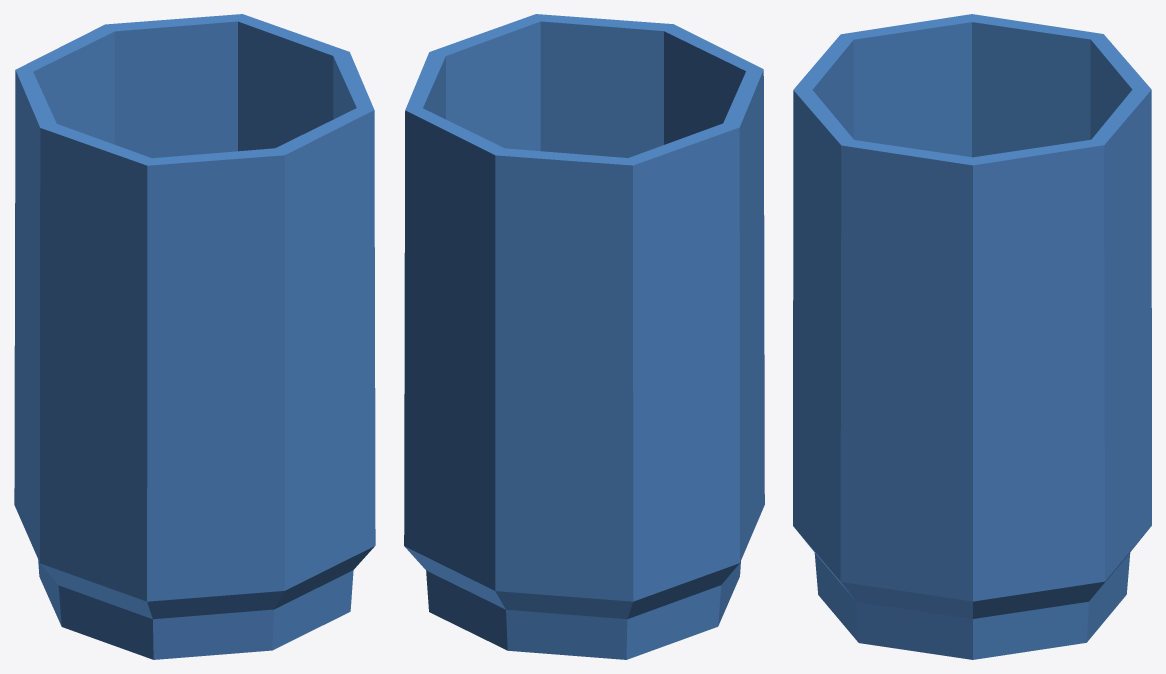
File: Glass_1.fbx
The picture shows the model from 3 angles, left to right: view 1: azimuth 30°, elevation 25°; view 2: azimuth 150°, elevation 25°; view 3: azimuth 270°, elevation 25°; orthographic projection.
Parts seen in each view (by area): view 1: Glass_1; view 2: Glass_1; view 3: Glass_1.
Boxes of the visible parts, x1,y1,x2,y2 form: Glass_1: [14, 14, 375, 659]; Glass_1: [404, 14, 764, 659]; Glass_1: [793, 14, 1151, 659].
Size of the model in its own units: 11.08 by 11.08 by 17.21.
